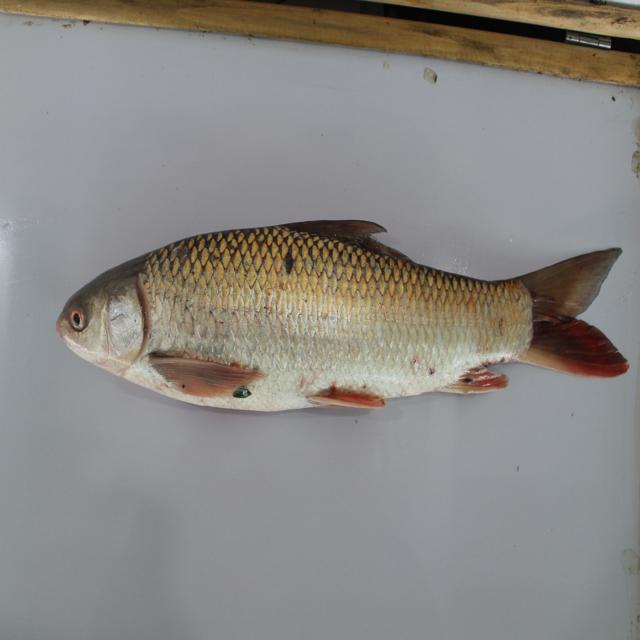Mori: (63, 195, 625, 445)
